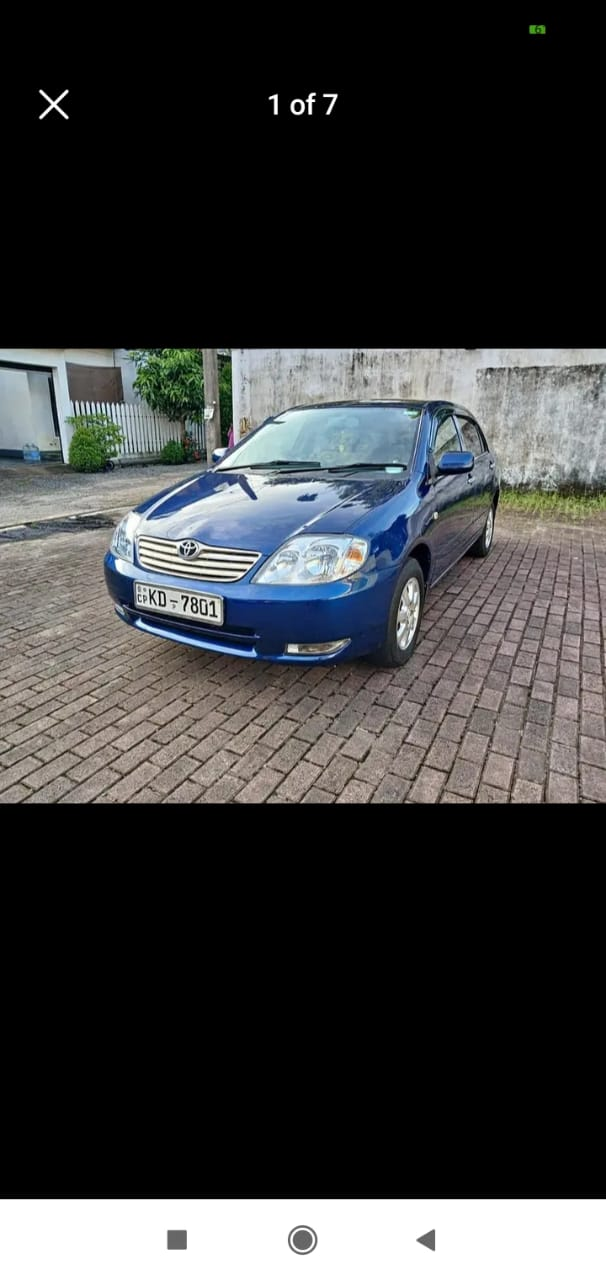number_plate: (135, 583, 226, 626)
